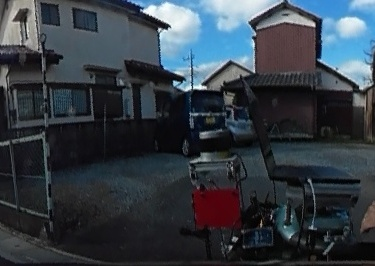person: (370, 25, 375, 258)
